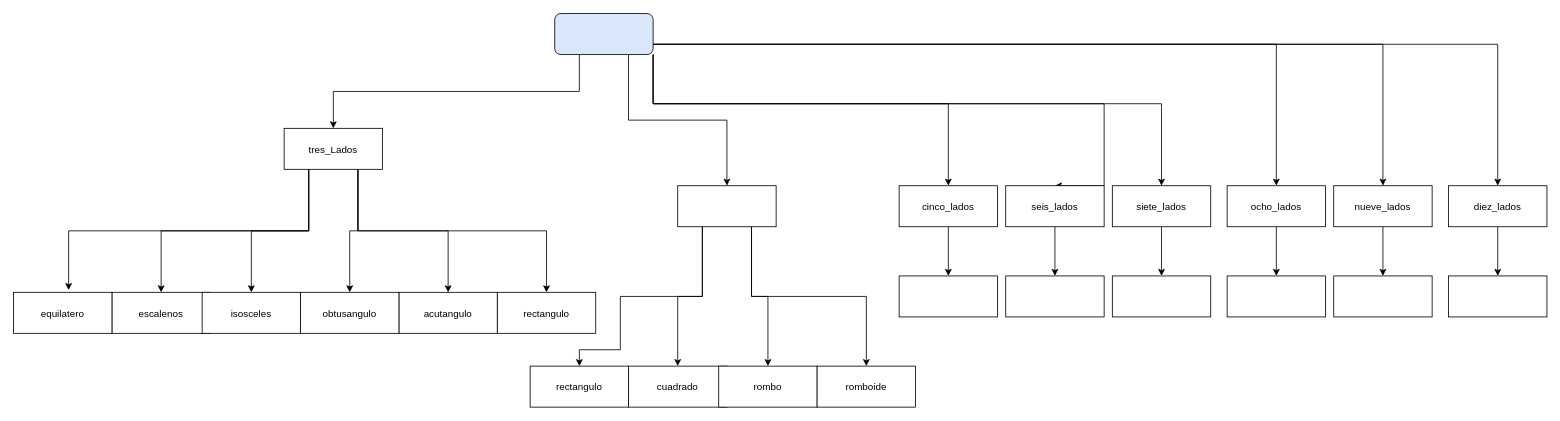
Some shapes in this 1560 by 421 pixel diagram are drawn without their labels. The shapes that lost their labels are listed below. From the top down, each one's centre as x and y in pixels, then its label:
At [603,34]: "figuras".
At [726,206]: "cuatro_Lados".
At [948,296]: "pentagono".
At [1054,296]: "hexagono".
At [1161,296]: "heptagono".
At [1276,296]: "octagono".
At [1382,296]: "eneagono".
At [1497,296]: "decagono".
